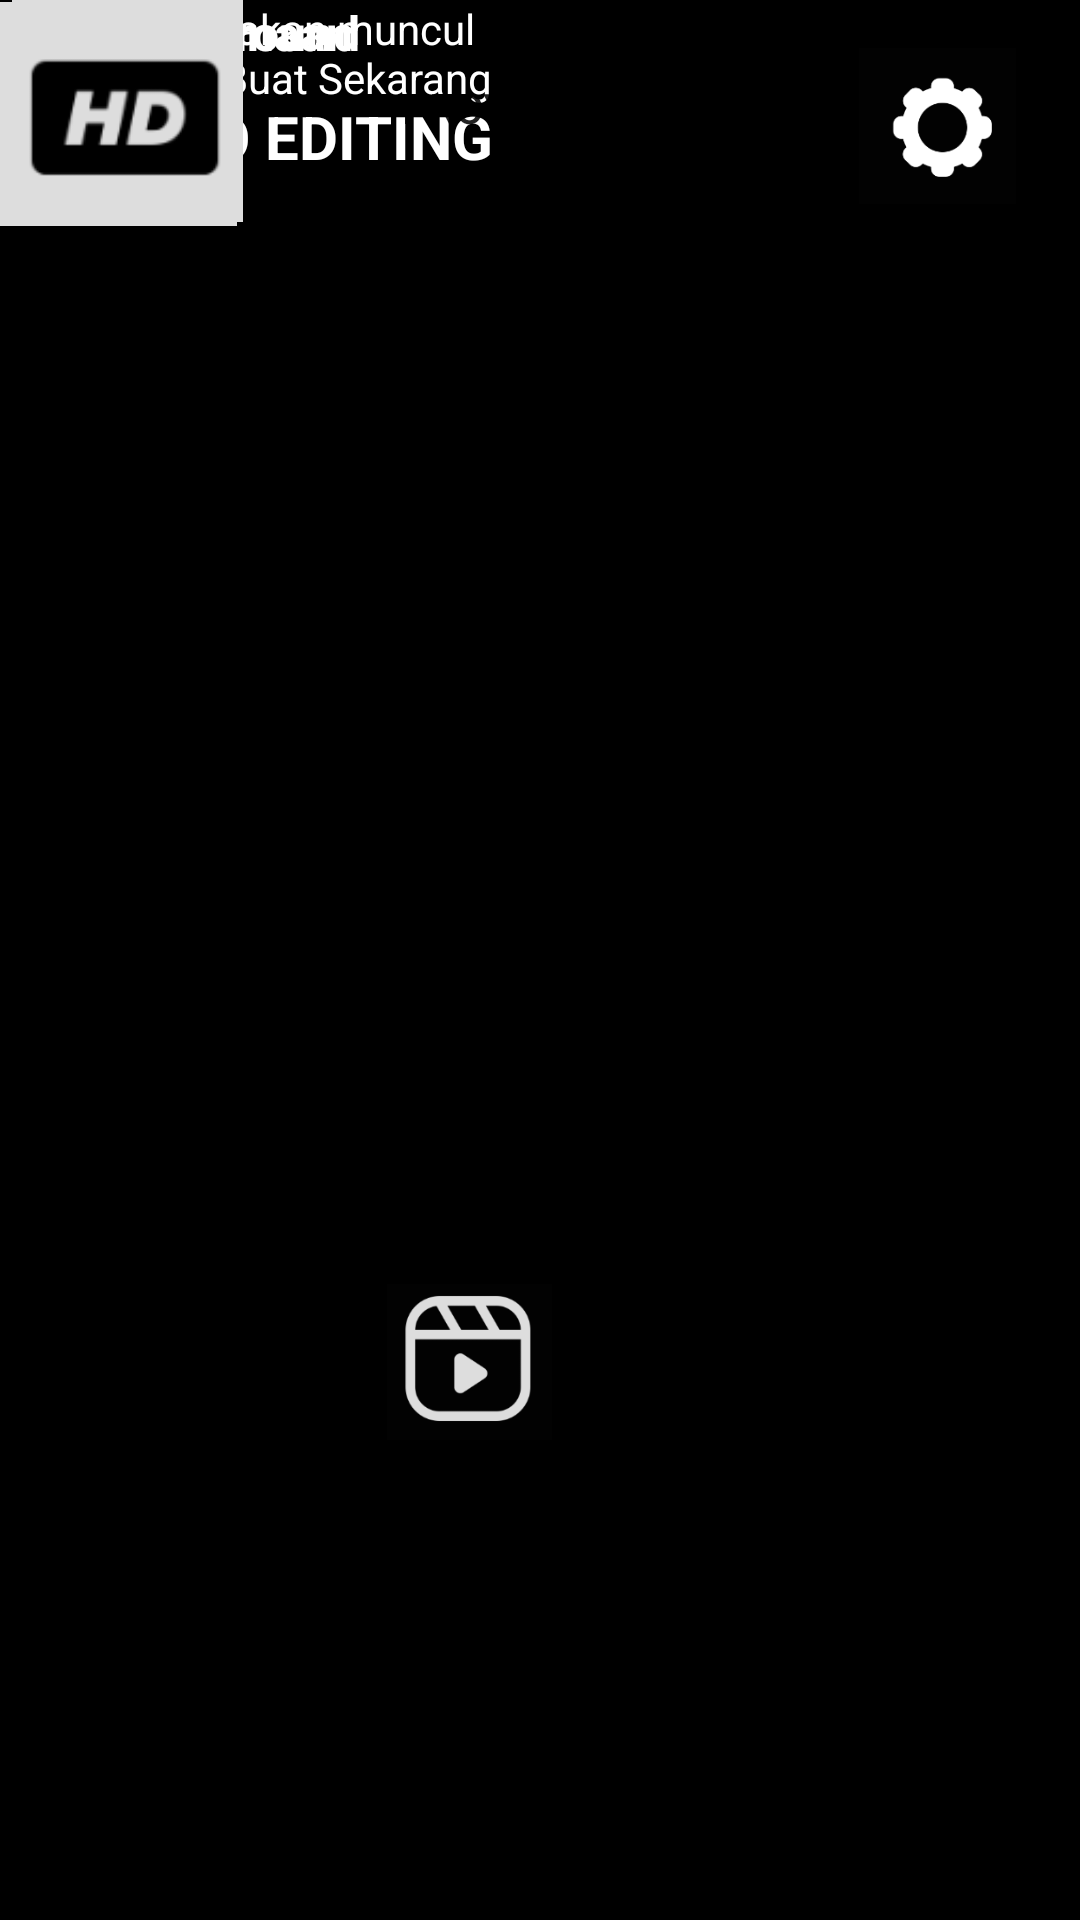

Icon bounding boxes for this 1080w x 1920h phone screenshot, format (x1, y1, x2, y2):
setting: (893, 78, 992, 177)
